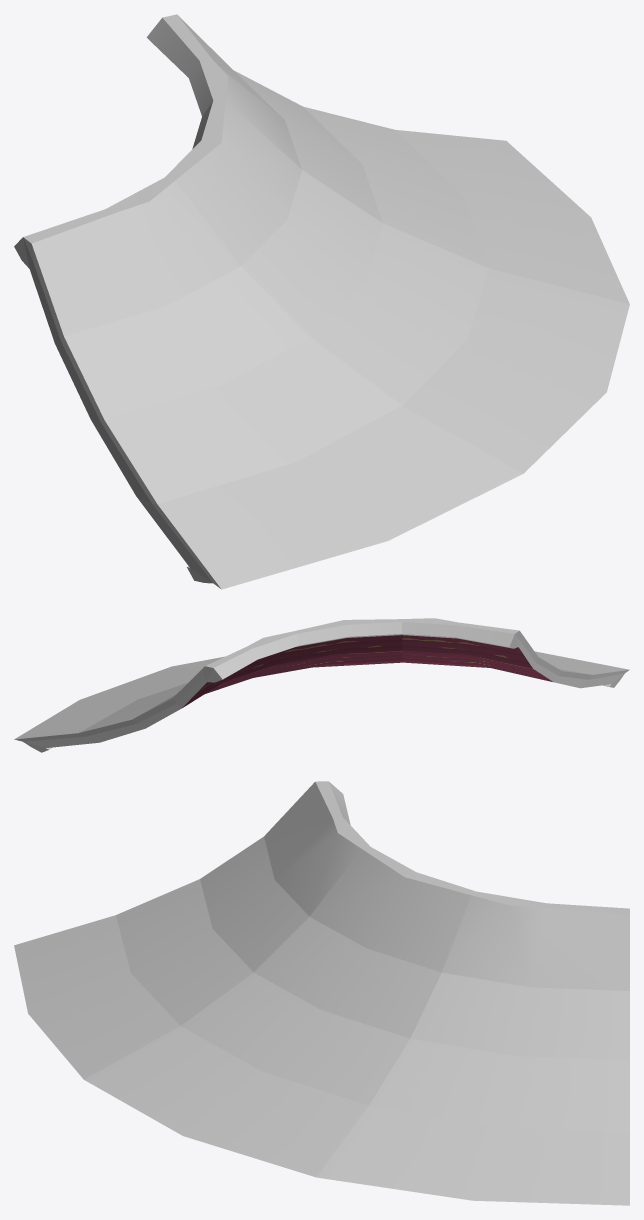
File: SM_Bld_Roof_M_Concave_Corner_Out_03.fbx
3 renders of one model, top to bottom at view 1: azimuth 30°, elevation 25°; view 2: azimuth 150°, elevation 25°; view 3: azimuth 270°, elevation 25°, orthographic. The views are drawn at different scales.
Parts seen in each view (by area): view 1: SM_Bld_Roof_M_Concave_Corner_Out_03; view 2: SM_Bld_Roof_M_Concave_Corner_Out_03; view 3: SM_Bld_Roof_M_Concave_Corner_Out_03.
Boxes of the visible parts, x1=… form: SM_Bld_Roof_M_Concave_Corner_Out_03: x1=14, y1=14, x2=629, y2=589; SM_Bld_Roof_M_Concave_Corner_Out_03: x1=14, y1=618, x2=629, y2=752; SM_Bld_Roof_M_Concave_Corner_Out_03: x1=14, y1=781, x2=629, y2=1205.
Bounding box in the file's own units: 511 × 158 × 511.
